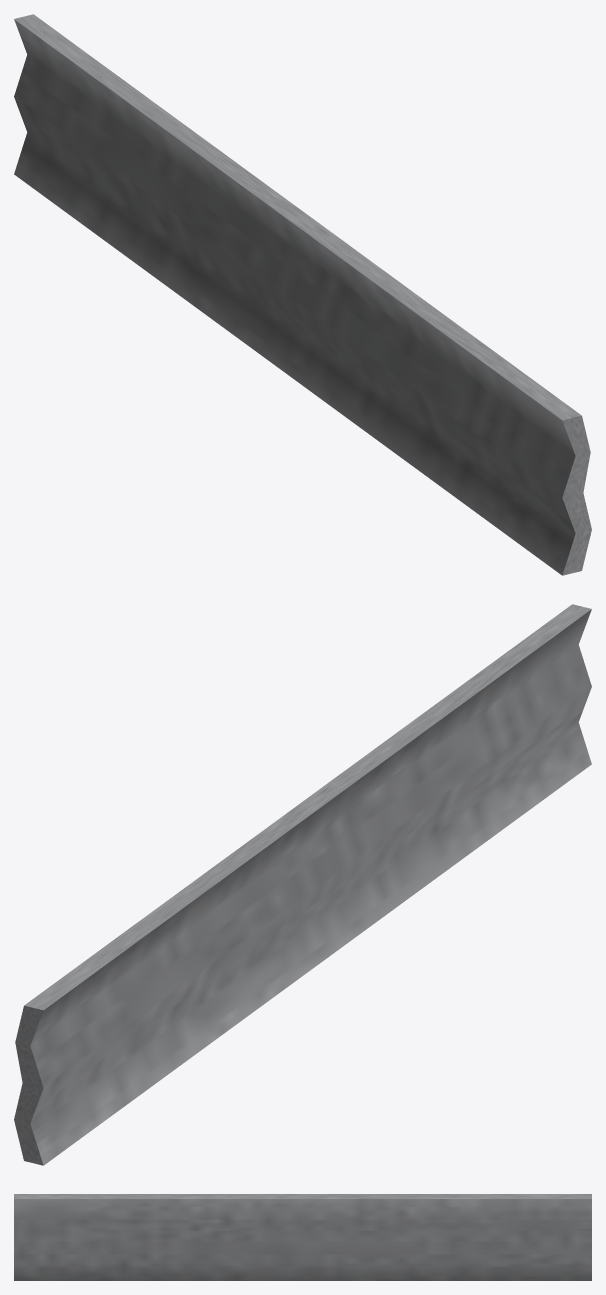
File: GuardRail.fbx
3 renders of one model, top to bottom at view 1: azimuth 30°, elevation 25°; view 2: azimuth 150°, elevation 25°; view 3: azimuth 270°, elevation 25°, orthographic. The views are drawn at different scales.
Visible parts, largest first — view 1: pCube7; view 2: pCube7; view 3: pCube7.
Boxes of the visible parts, <box> form: pCube7: <box>14,14,591,575</box>; pCube7: <box>14,604,591,1165</box>; pCube7: <box>14,1194,591,1280</box>.
Bounding box in the file's own units: 0.2949 × 1.48 × 9.45.
